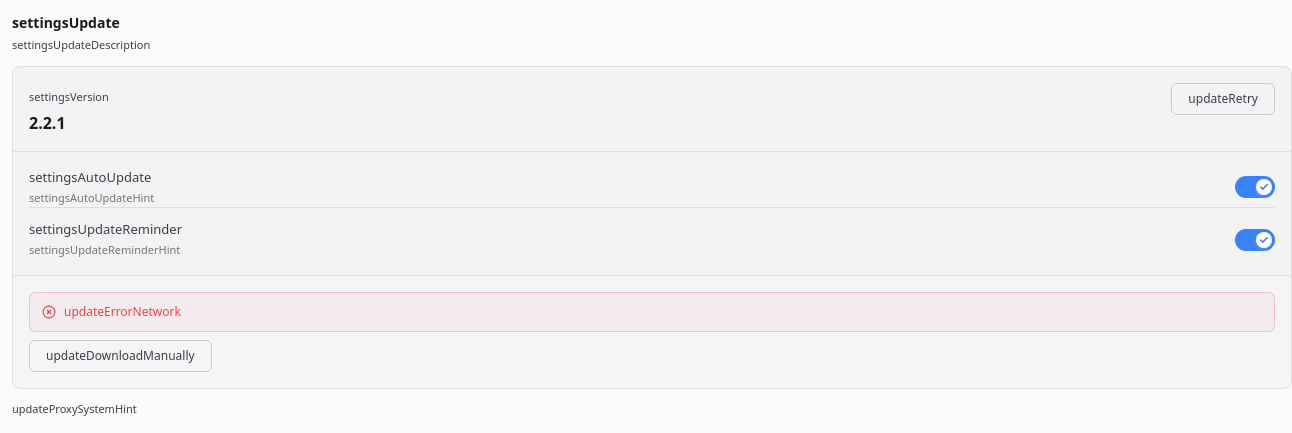
Scenario: update settings errors › hides event errors when retrying and recovers after success
Expected: the text "updateErrorNetwork" is shown, top-left (64, 303), bottom-right (181, 321)
Click the button "updateRetry".
click(1223, 98)  # box top-left (1171, 82), bottom-right (1275, 114)
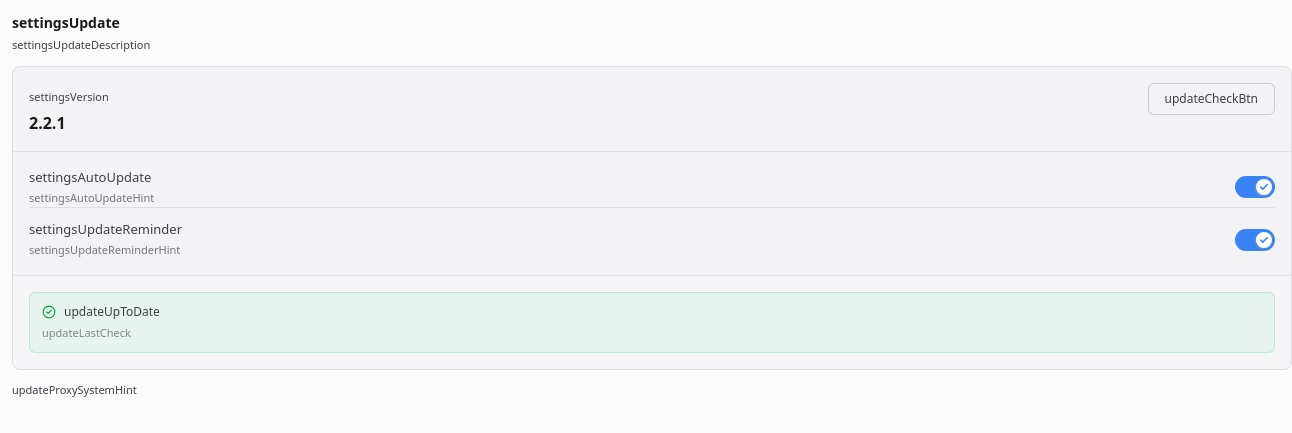
Expected: the button "updateCheckBtn" is enabled, top-left (1148, 82), bottom-right (1275, 114)
Expected: the text "updateErrorNetwork" is gone
Expected: the text "updateUpToDate" is shown, top-left (64, 303), bottom-right (160, 321)
